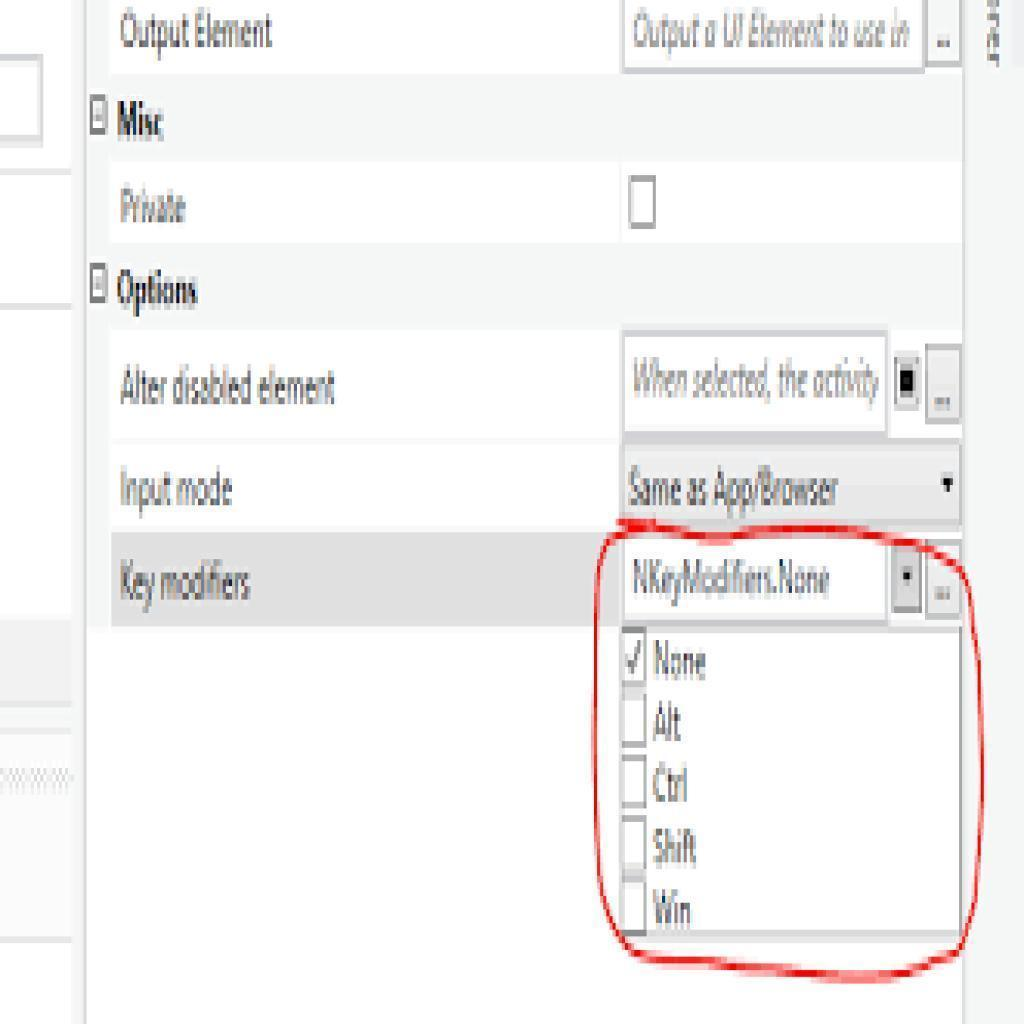checkbox: (896, 351, 922, 411), (621, 629, 647, 686), (629, 175, 656, 228), (621, 692, 647, 747), (622, 756, 648, 807), (623, 880, 648, 932), (622, 817, 644, 867)
dropdown: (624, 448, 960, 522)
input: (620, 331, 885, 434), (621, 3, 923, 70)
label: (654, 639, 714, 684), (651, 825, 701, 870), (651, 761, 694, 807), (652, 886, 694, 929), (654, 701, 686, 744)
